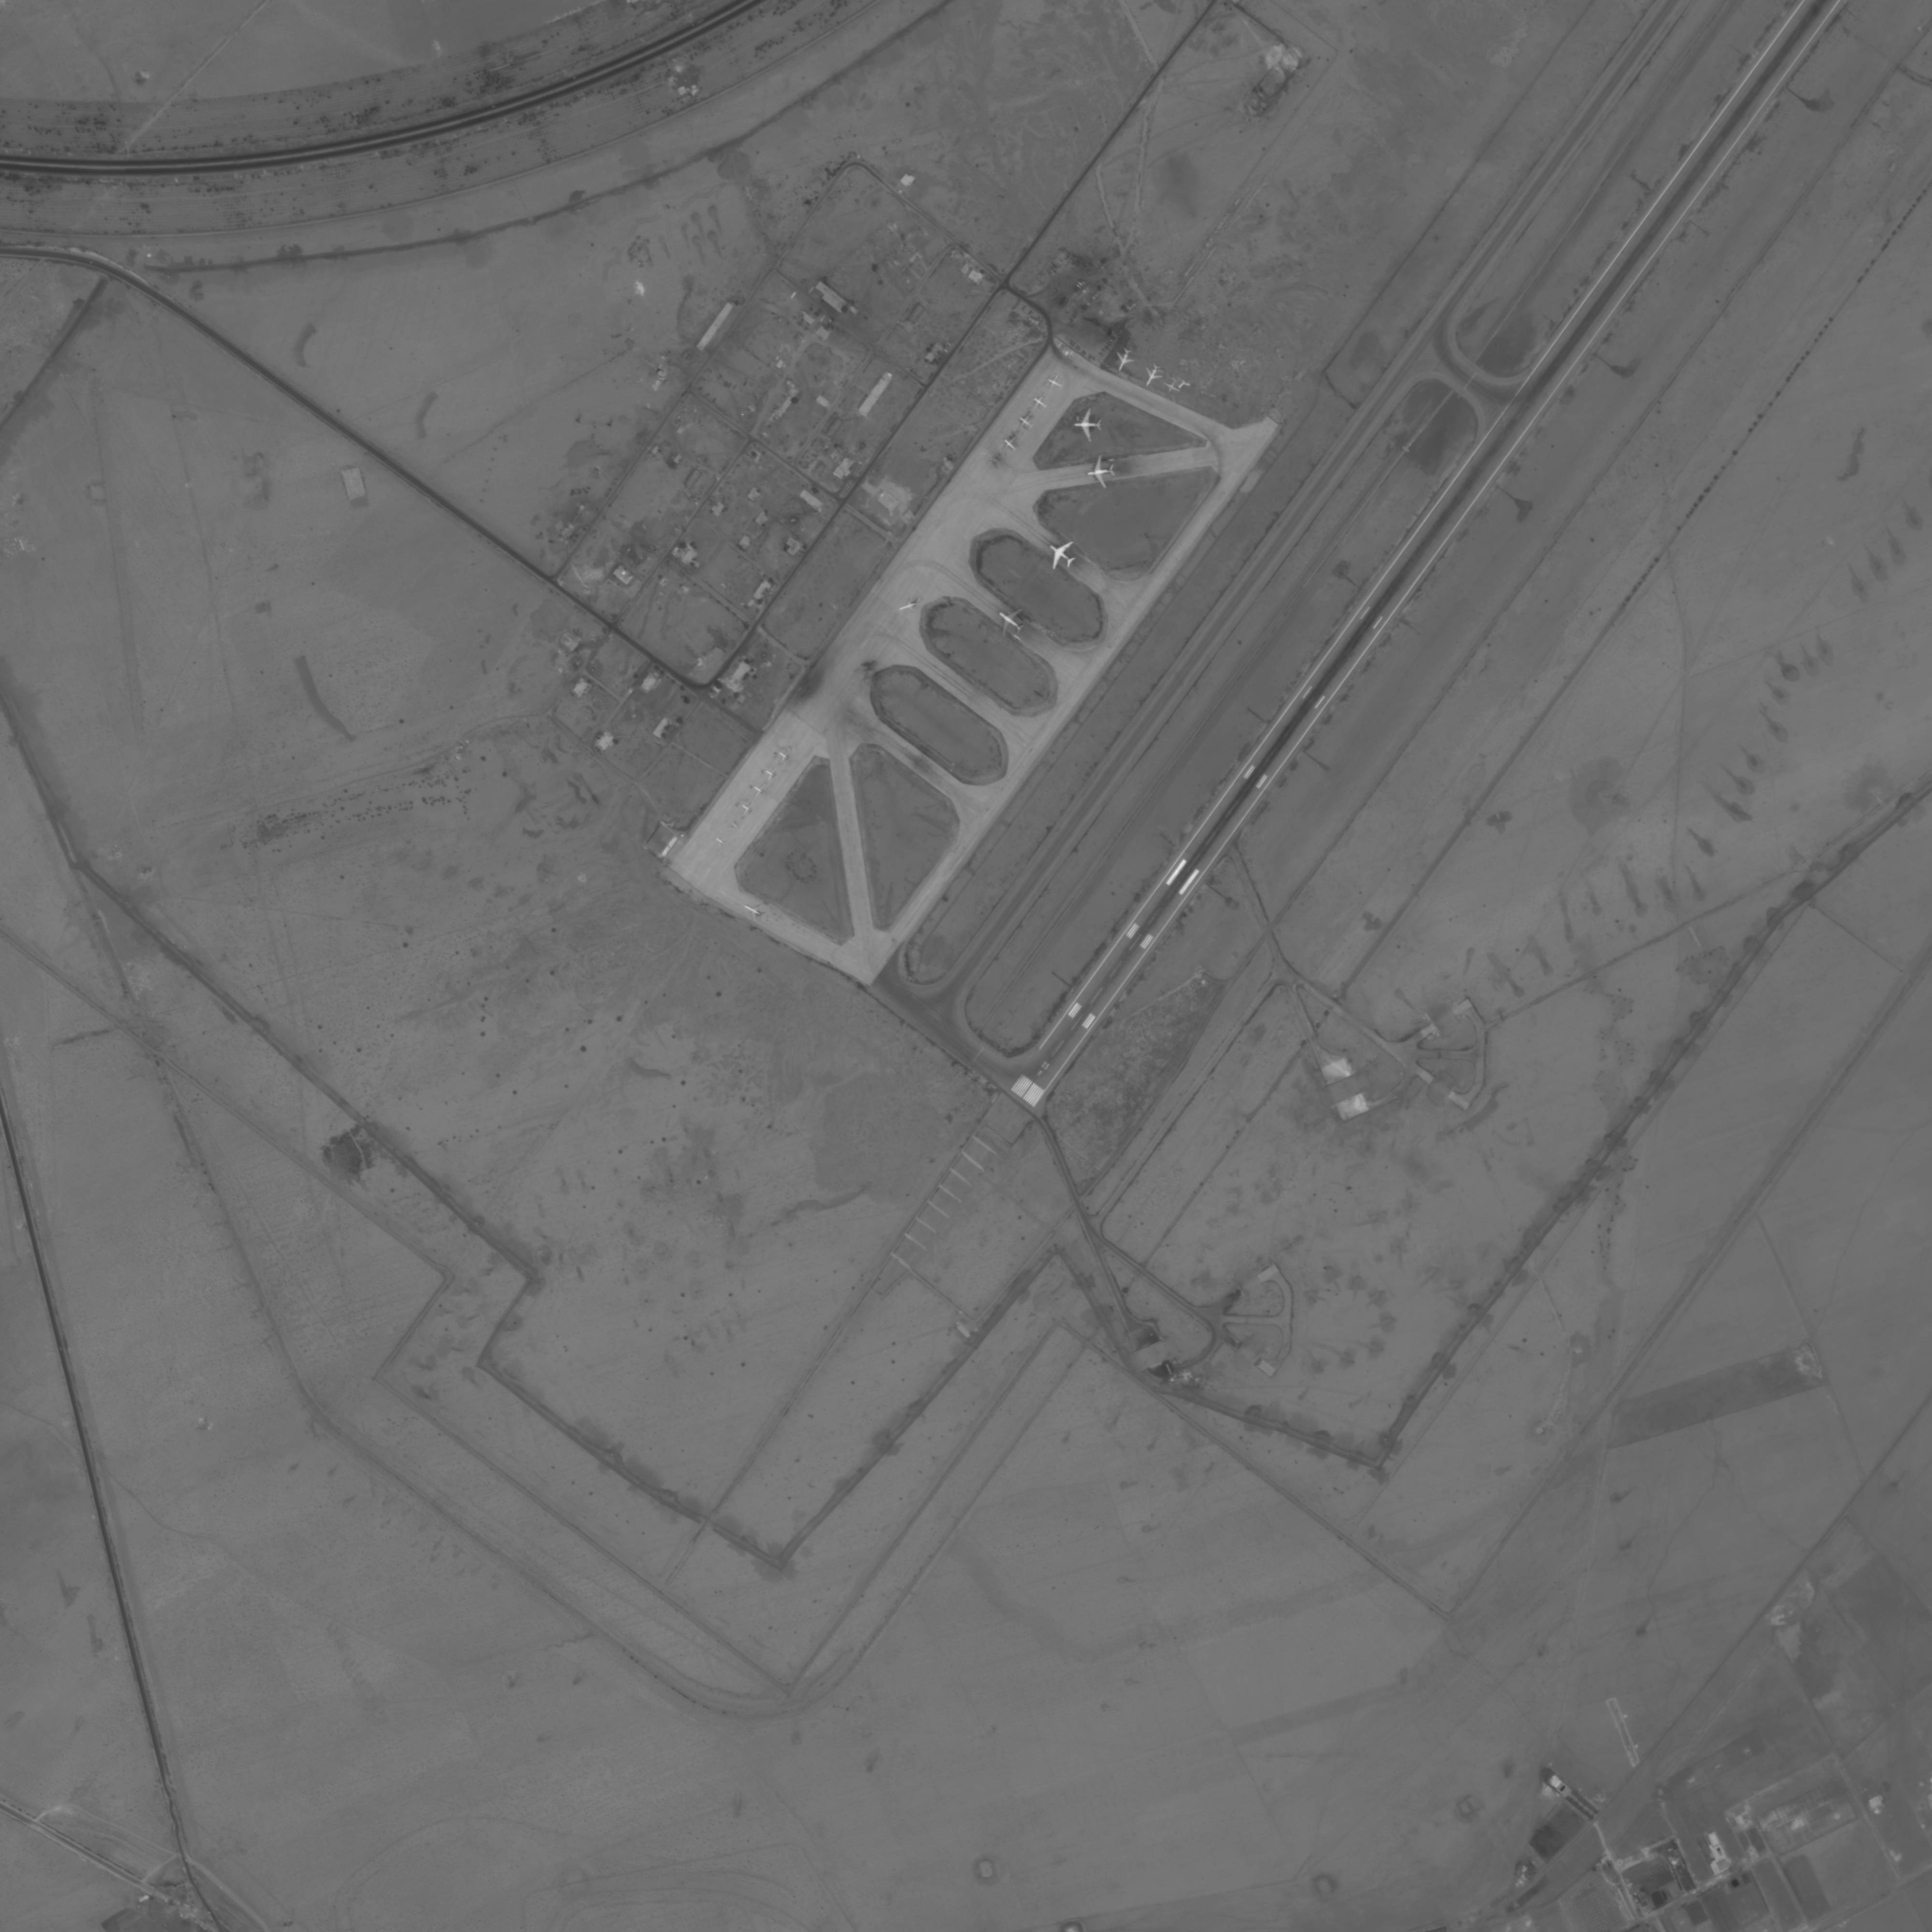plane: (1040, 533, 1085, 580), (989, 598, 1033, 644), (1085, 453, 1116, 488), (1074, 407, 1104, 444), (1138, 361, 1168, 393), (1109, 347, 1139, 377), (1010, 409, 1039, 433), (740, 899, 768, 924), (998, 432, 1023, 458), (897, 593, 924, 617), (1159, 375, 1184, 398), (1028, 391, 1051, 414), (1044, 372, 1065, 393), (775, 747, 793, 766), (750, 782, 768, 800), (713, 833, 729, 853), (763, 766, 778, 782), (740, 801, 754, 817)
